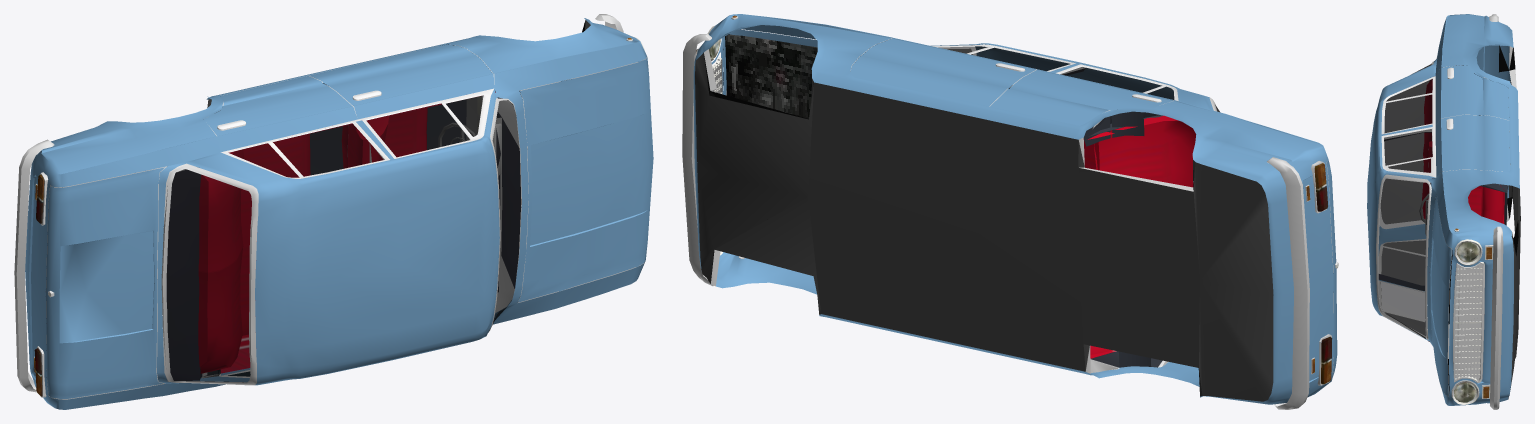
The model's file is chassis copy.glb.
3 views of the same model, side by side, from view 1: azimuth 30°, elevation 25°; view 2: azimuth 150°, elevation 25°; view 3: azimuth 270°, elevation 25° (orthographic). The views are drawn at different scales.
Parts seen in each view (by area): view 1: 3DGeom-31, 3DGeom-29, 3DGeom-25, 3DGeom-11, 3DGeom-34, 3DGeom-6, 3DGeom-2, 3DGeom-27, 3DGeom-5, 3DGeom-35, 3DGeom-8, 3DGeom-36 (+3 smaller); view 2: 3DGeom-32, 3DGeom-31, 3DGeom-29, 3DGeom-6, 3DGeom-28, 3DGeom-2, 3DGeom-36, 3DGeom-37, 3DGeom-27, 3DGeom-5, 3DGeom-8, 3DGeom-11 (+3 smaller); view 3: 3DGeom-31, 3DGeom-35, 3DGeom-27, 3DGeom-29, 3DGeom-34, 3DGeom-6, 3DGeom-2, 3DGeom-25, 3DGeom-37, 3DGeom-5, 3DGeom-8, 3DGeom-23 (+7 smaller).
Part boxes in pixels (bbox=[...]): 3DGeom-31: bbox=[25, 18, 646, 409]; 3DGeom-29: bbox=[34, 20, 645, 396]; 3DGeom-25: bbox=[518, 57, 653, 302]; 3DGeom-11: bbox=[46, 167, 164, 398]; 3DGeom-34: bbox=[166, 169, 251, 382]; 3DGeom-6: bbox=[309, 44, 494, 119]; 3DGeom-2: bbox=[203, 76, 393, 159]; 3DGeom-27: bbox=[34, 23, 640, 397]; 3DGeom-5: bbox=[229, 123, 384, 177]; 3DGeom-35: bbox=[492, 100, 521, 325]; 3DGeom-8: bbox=[366, 95, 483, 156]; 3DGeom-36: bbox=[14, 139, 54, 392]; 3DGeom-32: bbox=[695, 52, 1273, 401]; 3DGeom-31: bbox=[693, 14, 1334, 404]; 3DGeom-29: bbox=[696, 15, 1332, 391]; 3DGeom-6: bbox=[850, 37, 1035, 106]; 3DGeom-28: bbox=[725, 34, 817, 118]; 3DGeom-2: bbox=[990, 63, 1173, 125]; 3DGeom-36: bbox=[1267, 157, 1309, 409]; 3DGeom-37: bbox=[682, 34, 713, 286]; 3DGeom-27: bbox=[697, 16, 1333, 385]; 3DGeom-5: bbox=[1060, 67, 1174, 99]; 3DGeom-8: bbox=[938, 46, 1069, 70]; 3DGeom-11: bbox=[1273, 160, 1337, 371]; 3DGeom-31: bbox=[1367, 14, 1519, 405]; 3DGeom-35: bbox=[1378, 178, 1429, 338]; 3DGeom-27: bbox=[1376, 46, 1516, 402]; 3DGeom-29: bbox=[1378, 45, 1518, 404]; 3DGeom-34: bbox=[1381, 64, 1431, 223]; 3DGeom-6: bbox=[1435, 114, 1510, 177]; 3DGeom-2: bbox=[1381, 65, 1509, 135]; 3DGeom-25: bbox=[1429, 194, 1451, 395]; 3DGeom-37: bbox=[1490, 226, 1503, 409]; 3DGeom-5: bbox=[1384, 79, 1432, 132]; 3DGeom-8: bbox=[1384, 129, 1432, 172]; 3DGeom-23: bbox=[1381, 240, 1425, 285].
Size of the model in its own units: 2.37 by 0.9865 by 0.6968.
Materials: 9 (2 with a texture image).
